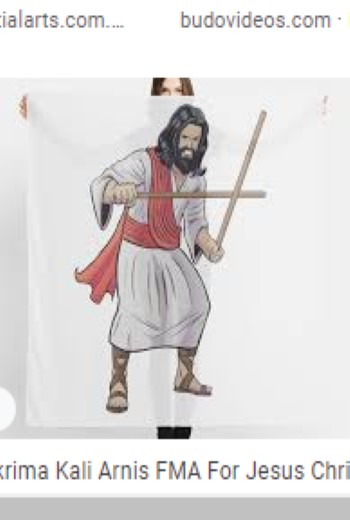baston_e: (210, 116, 267, 241), (142, 187, 260, 202)
baston_v: (253, 105, 271, 125), (255, 185, 269, 202)
